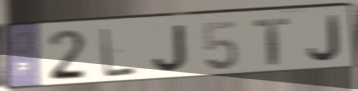2: (45, 28, 88, 82)
5: (202, 18, 241, 72)
J: (152, 23, 190, 73), (306, 14, 343, 64)
L: (99, 26, 139, 80)
T: (252, 16, 291, 67)
